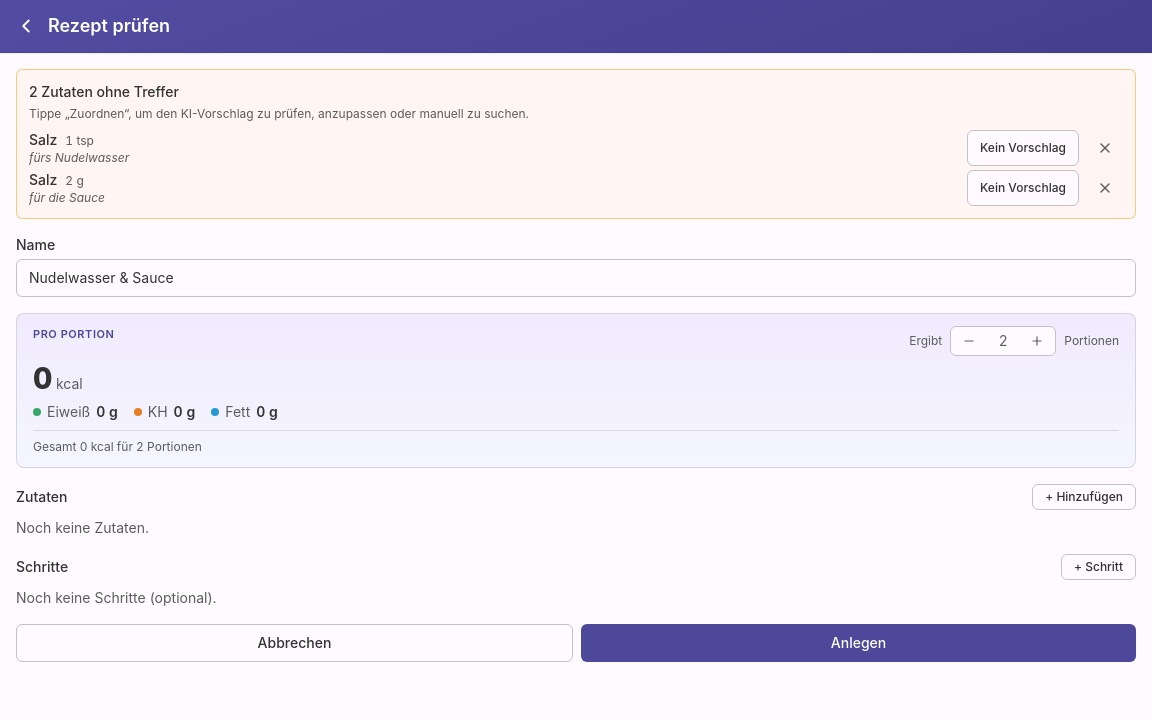
Scenario: ReviewImportScreen › repeated unmatched names › discards only the line the user acted on
Click the button named "Zutat „Salz“ verwerfen" in the row of "tsp".
click(1105, 148)  # box [1087, 130, 1123, 166]
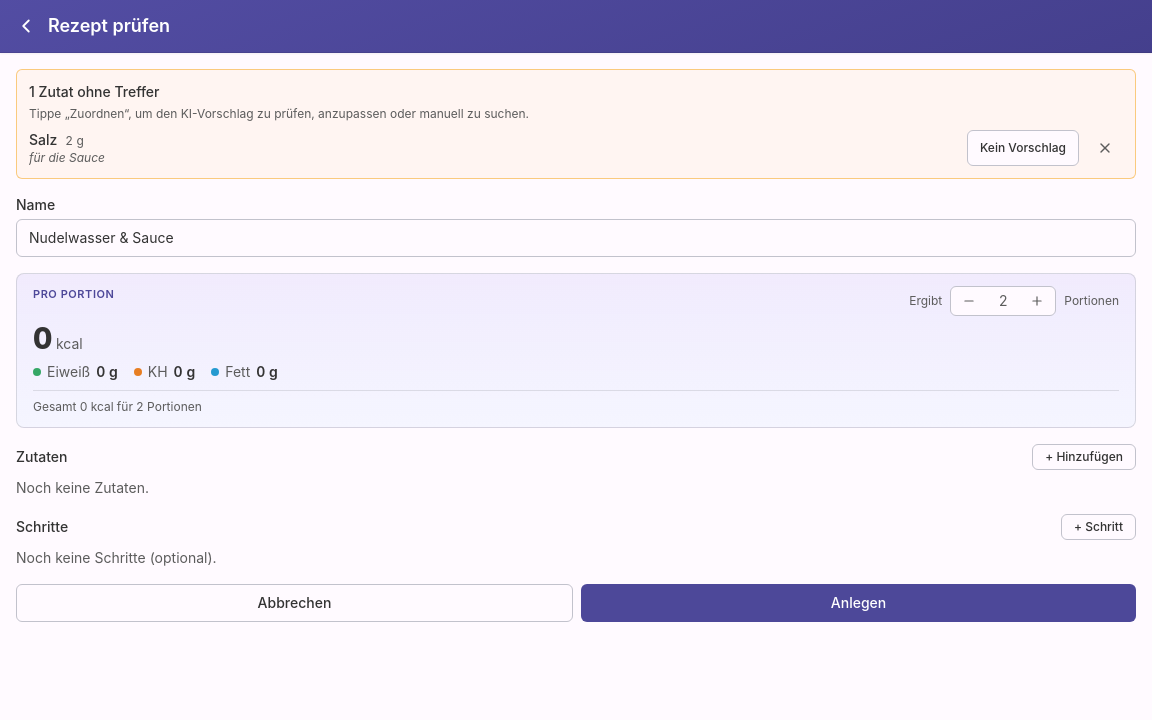
Check: the text "für die Sauce" is shown, box [29, 150, 105, 165]
Check: the text "1 Zutat ohne Treffer" is shown, box [29, 83, 160, 100]
Check: the text "fürs Nudelwasser" is gone
